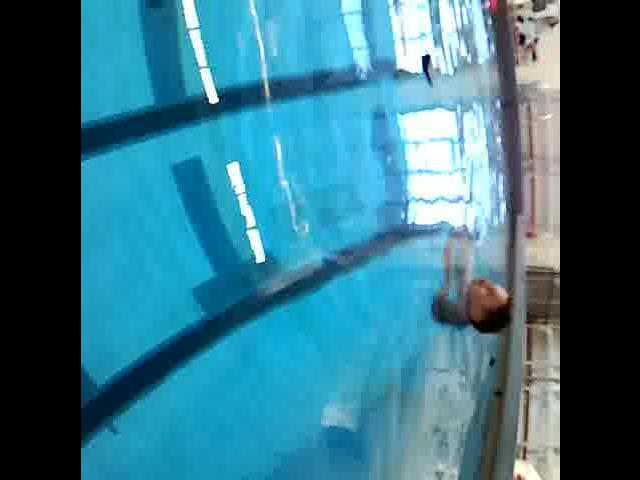CamMount: (415, 49, 438, 95)
